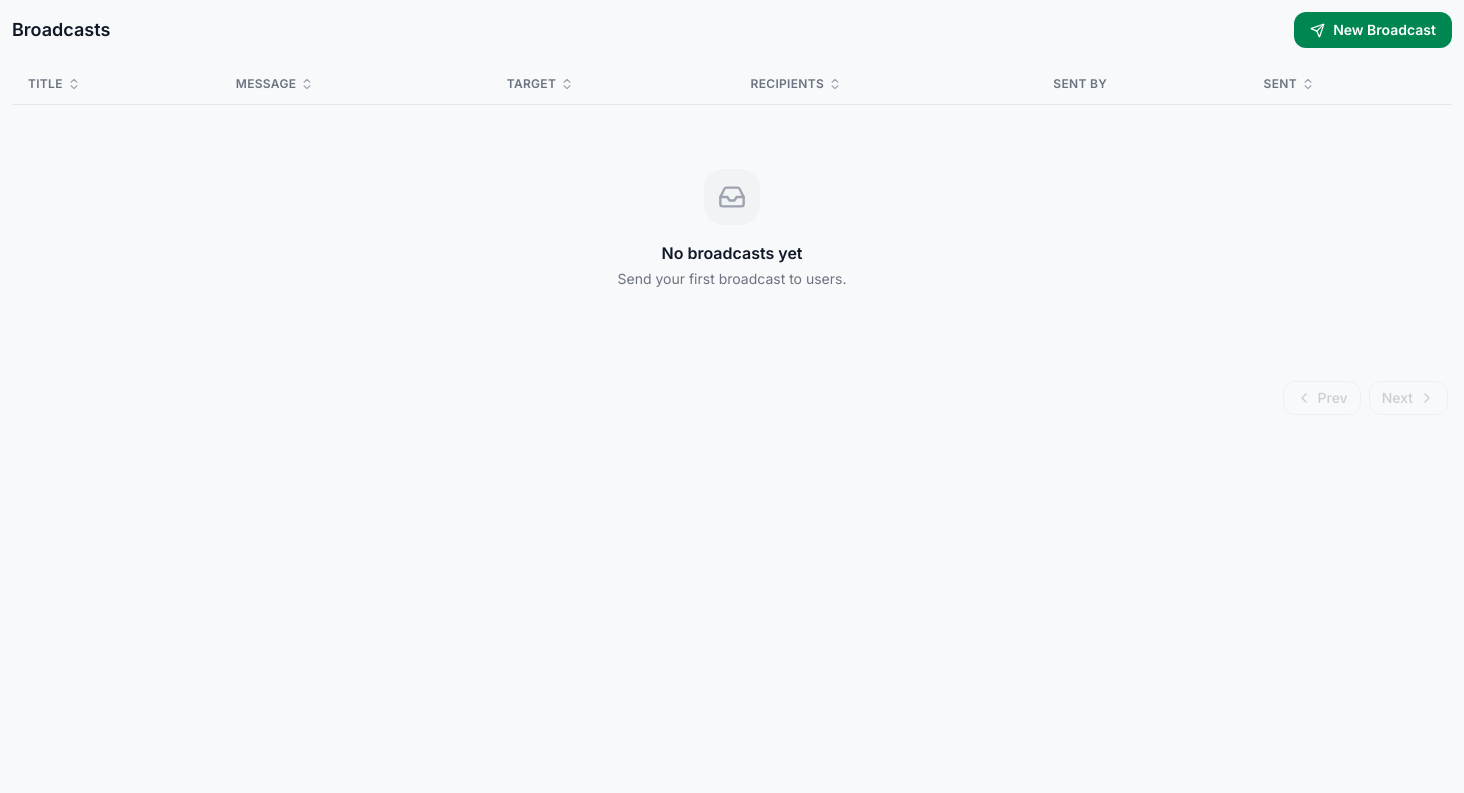
Test: BroadcastsPage › shows target state input when STATE target is selected
Click the button with test id "new-broadcast-btn": coordinates (1373, 30) left=1294, top=12, right=1452, bottom=48
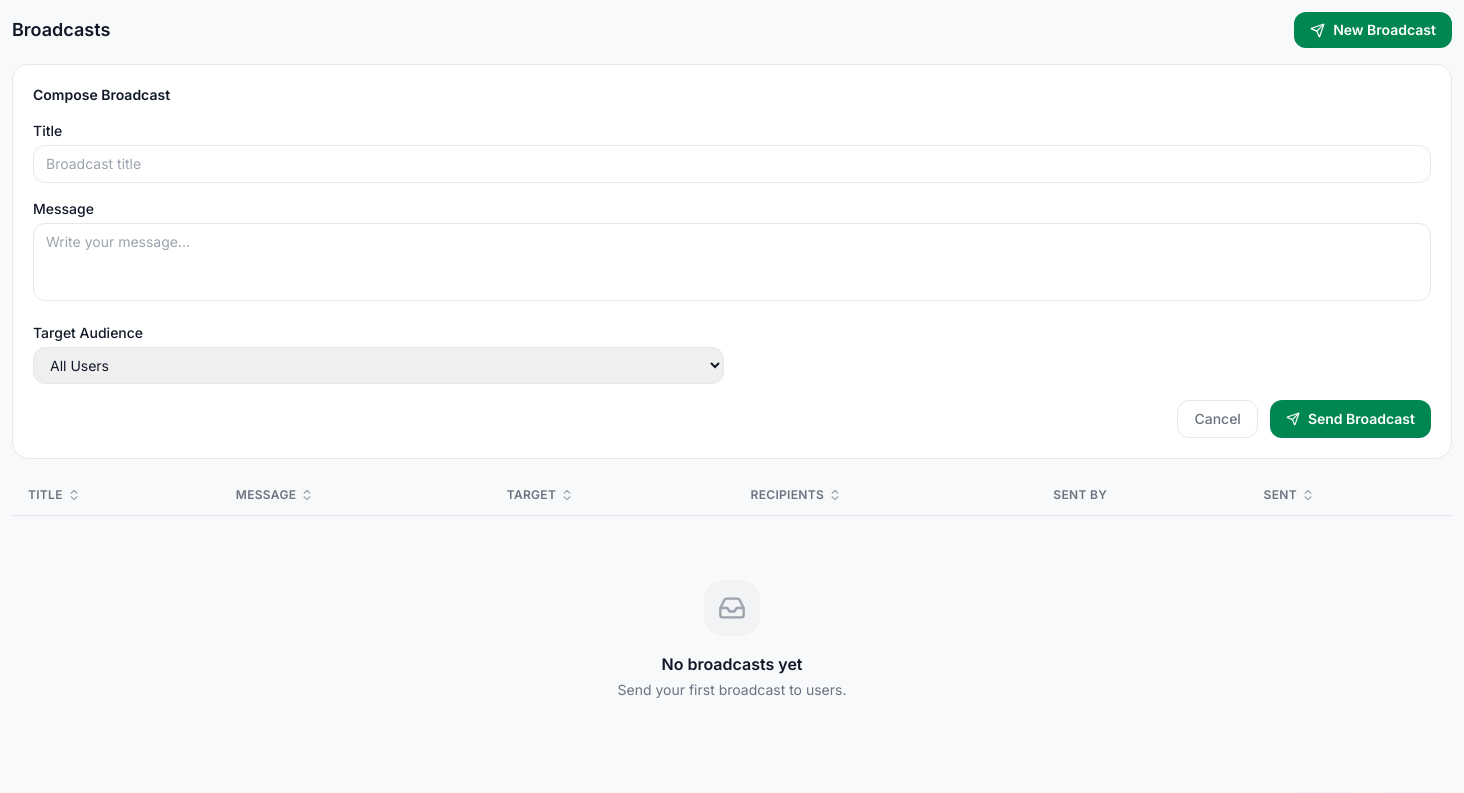
Select "By State" in the dropdown with test id "broadcast-target": coordinates (378, 366) left=33, top=347, right=724, bottom=384
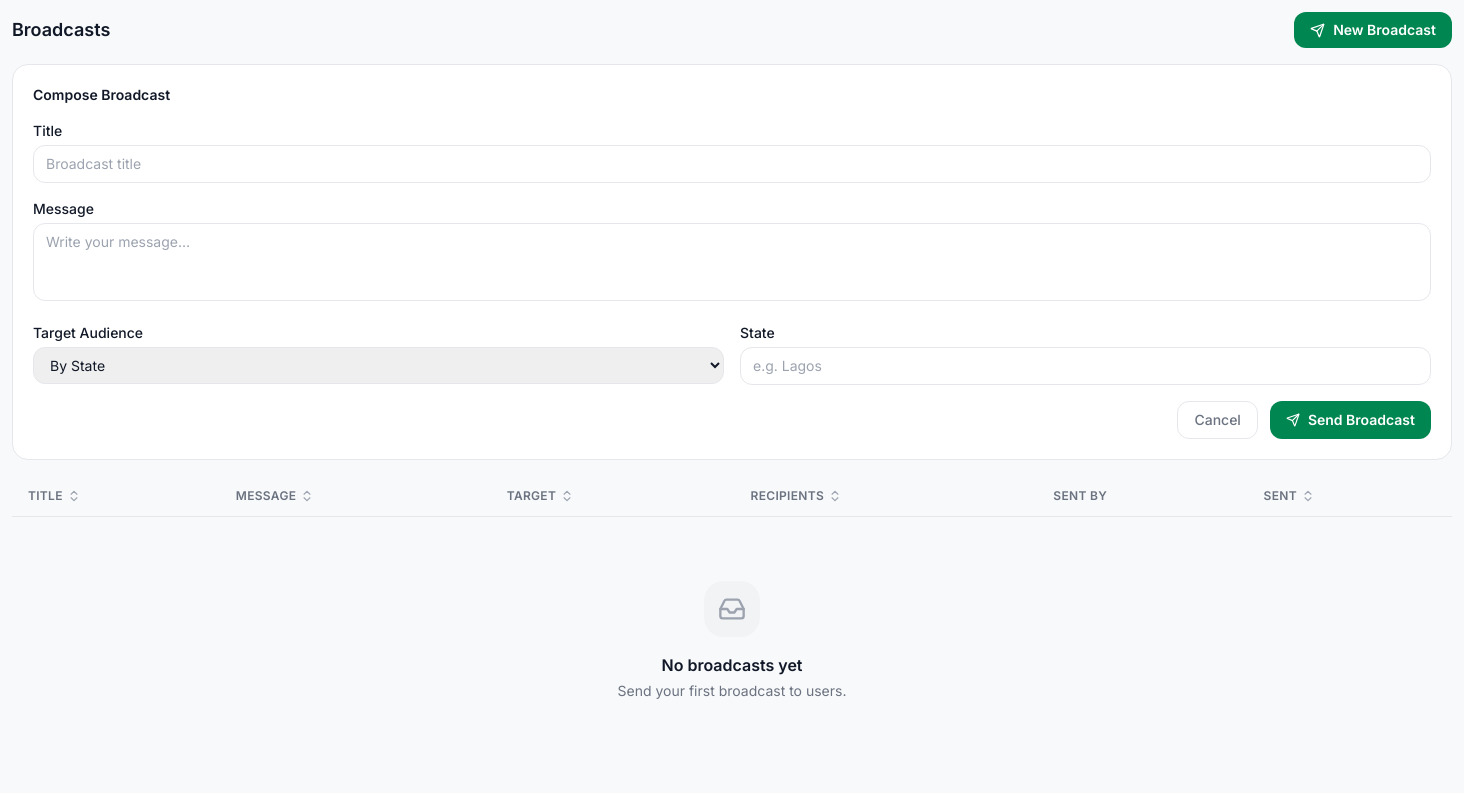
Now the field with test id "broadcast-target-state" is shown, box left=740, top=347, right=1431, bottom=385
